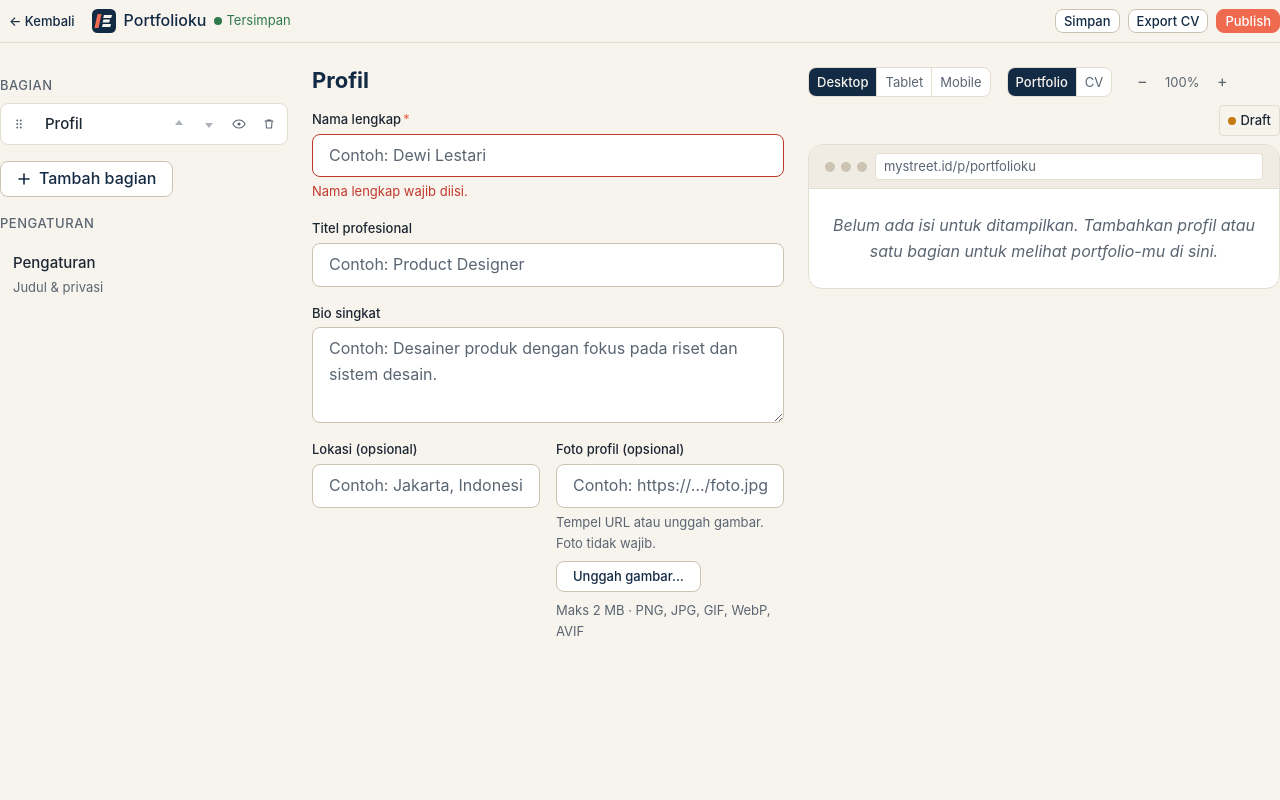
Scenario: PortfolioEditor › warns with a Simpan / Buang / Batal dialog when leaving with unsaved changes
This screenshot has width=1280, height=800.
Type "X" into the field labelled "Nama lengkap*" at point(548, 156), box [312,134,784,177]
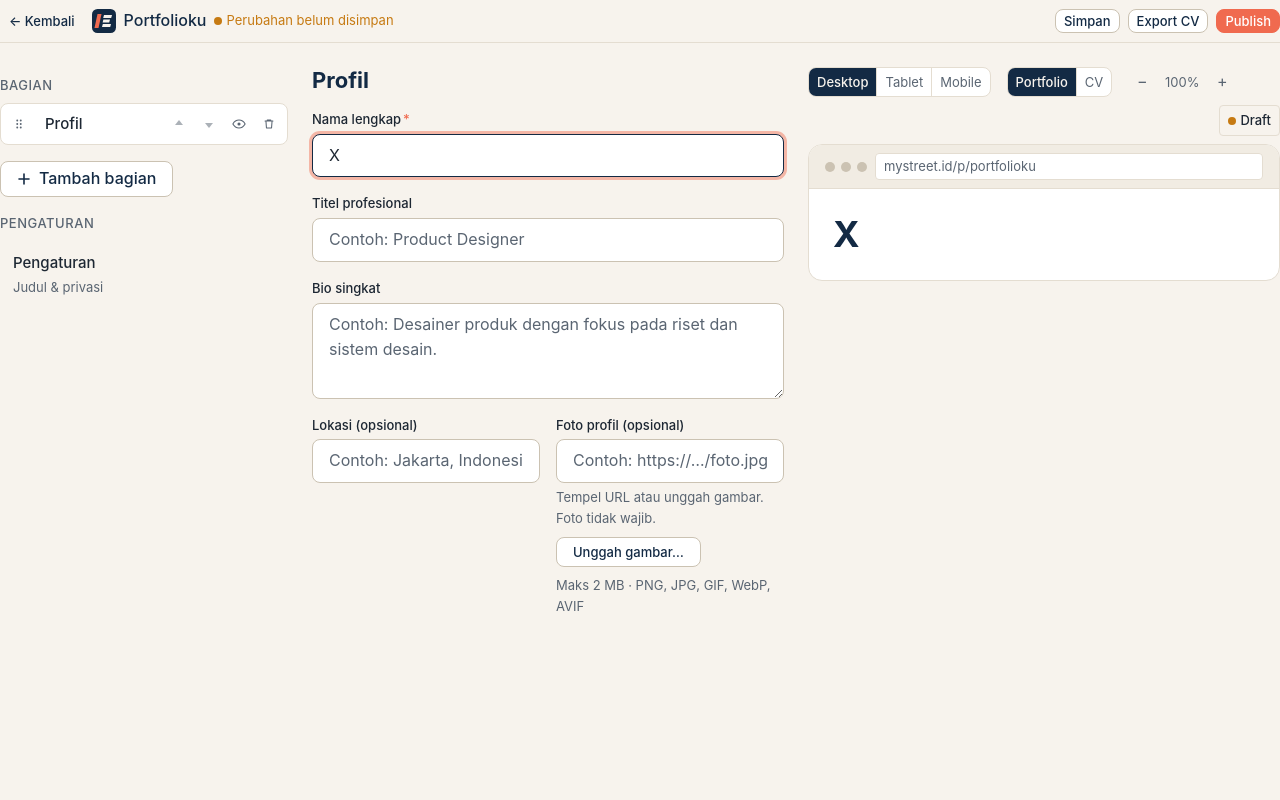
Click the button "← Kembali" at point(42, 21), box [0,9,84,33]
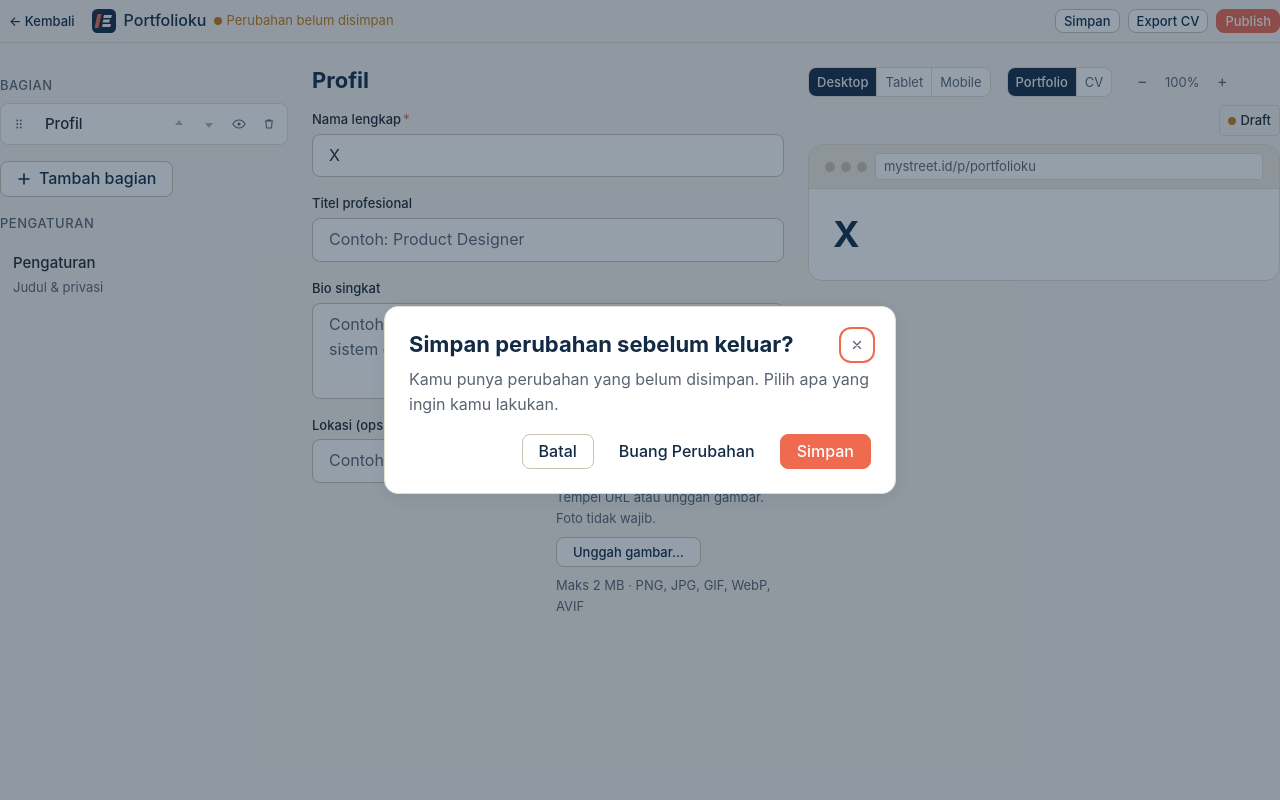
Expected: the heading "Simpan perubahan sebelum keluar?" is shown, [409,331,794,357]
Expected: the button "Simpan" is shown, [780,434,871,469]
Expected: the button "Buang Perubahan" is shown, [602,434,772,469]
